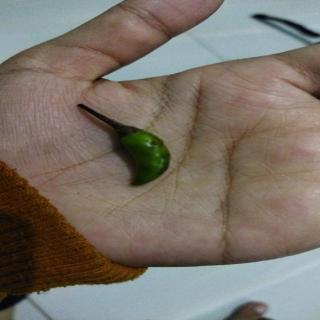Cabai Hijau: (72, 98, 174, 190)
